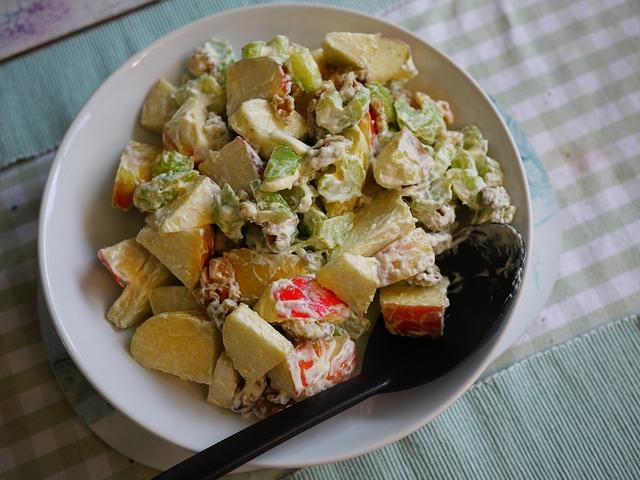apple: (130, 310, 224, 384), (224, 247, 326, 309), (326, 196, 418, 262), (222, 302, 294, 384), (106, 253, 180, 329), (136, 224, 214, 292), (321, 32, 418, 86), (252, 276, 350, 327), (228, 99, 309, 160), (145, 174, 221, 234), (314, 252, 380, 320), (380, 276, 450, 340), (198, 137, 266, 202), (368, 228, 436, 288), (226, 56, 290, 118), (268, 338, 336, 396), (372, 126, 432, 189), (112, 139, 161, 212), (162, 92, 212, 162), (98, 236, 150, 288), (140, 76, 180, 136), (206, 348, 241, 409), (148, 286, 206, 315), (327, 334, 358, 384), (343, 127, 369, 176), (358, 107, 377, 164)
